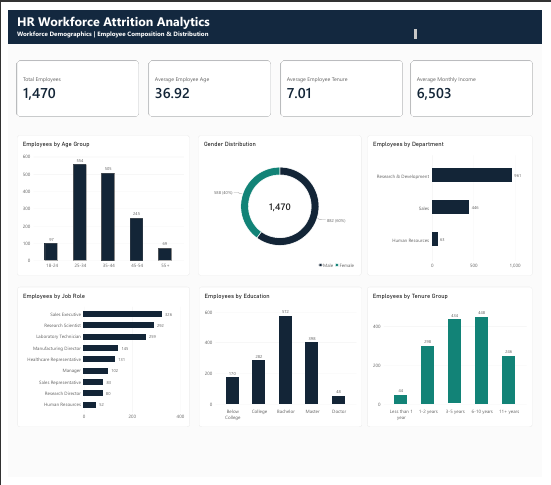

This screenshot's page, from the dashboard's own definition file:
{"tool":"powerbi","page":{"name":"Workforce Demographics","canvas":[1600,1400],"ordinal":1},"visuals":[{"type":"shape","box":[0,0,1600.2,100.8],"z":0},{"type":"textbox","box":[24,8,1200,50],"z":1000},{"type":"textbox","box":[24,58,1200,36],"z":2000},{"type":"cardVisual","fields":{"Data":["HR_Employees.Total Employees"]},"box":[24,152,366,168],"z":3000},{"type":"cardVisual","fields":{"Data":["HR_Employees.Average Employee Age"]},"box":[420,152,366,168],"z":4000},{"type":"cardVisual","fields":{"Data":["HR_Employees.Average Employee Tenure"]},"box":[816,152,366,168],"z":5000},{"type":"cardVisual","fields":{"Data":["HR_Employees.Average Monthly Income"]},"box":[1206,152,366,168],"z":6000},{"type":"clusteredColumnChart","title":"Employees by Age Group","fields":{"Category":["HR_Employees.AgeGroup"],"Y":["HR_Employees.Total Employees"]},"box":[24,376,518,420],"z":7000},{"type":"clusteredBarChart","title":"Employees by Department","fields":{"Category":["HR_Employees.Department"],"Y":["HR_Employees.Total Employees"]},"box":[1076,376,496,420],"z":8000},{"type":"donutChart","title":"\tGender Distribution","fields":{"Category":["HR_Employees.Gender"],"Y":["HR_Employees.Total Employees"]},"box":[568,376,490,420],"z":9000},{"type":"clusteredBarChart","title":"Employees by Job Role","fields":{"Category":["HR_Employees.JobRole"],"Y":["HR_Employees.Total Employees"]},"box":[25,830,518,420],"z":10000},{"type":"clusteredColumnChart","title":"Employees by Education","fields":{"Category":["HR_Employees.Education Category"],"Y":["HR_Employees.Total Employees"]},"box":[570,830,490,420],"z":11000},{"type":"clusteredColumnChart","title":"\tEmployees by Tenure Group","fields":{"Category":["HR_Employees.TenureGroup"],"Y":["HR_Employees.Total Employees"]},"box":[1075,830,496,420],"z":12000}]}

Visuals, with their boxes in screenshot pixels (x1, y1, x2, y2), scaled from the page's 1600x1400 canvas onto the 551x485 screenshot:
shape: {"left": 0, "top": 0, "right": 550, "bottom": 35}
textbox: {"left": 8, "top": 3, "right": 422, "bottom": 20}
textbox: {"left": 8, "top": 20, "right": 422, "bottom": 33}
cardVisual - HR_Employees.Total Employees: {"left": 8, "top": 53, "right": 134, "bottom": 111}
cardVisual - HR_Employees.Average Employee Age: {"left": 145, "top": 53, "right": 271, "bottom": 111}
cardVisual - HR_Employees.Average Employee Tenure: {"left": 281, "top": 53, "right": 407, "bottom": 111}
cardVisual - HR_Employees.Average Monthly Income: {"left": 415, "top": 53, "right": 541, "bottom": 111}
"Employees by Age Group" clusteredColumnChart: {"left": 8, "top": 130, "right": 187, "bottom": 276}
"Employees by Department" clusteredBarChart: {"left": 371, "top": 130, "right": 541, "bottom": 276}
"	Gender Distribution" donutChart: {"left": 196, "top": 130, "right": 364, "bottom": 276}
"Employees by Job Role" clusteredBarChart: {"left": 9, "top": 288, "right": 187, "bottom": 433}
"Employees by Education" clusteredColumnChart: {"left": 196, "top": 288, "right": 365, "bottom": 433}
"	Employees by Tenure Group" clusteredColumnChart: {"left": 370, "top": 288, "right": 541, "bottom": 433}
